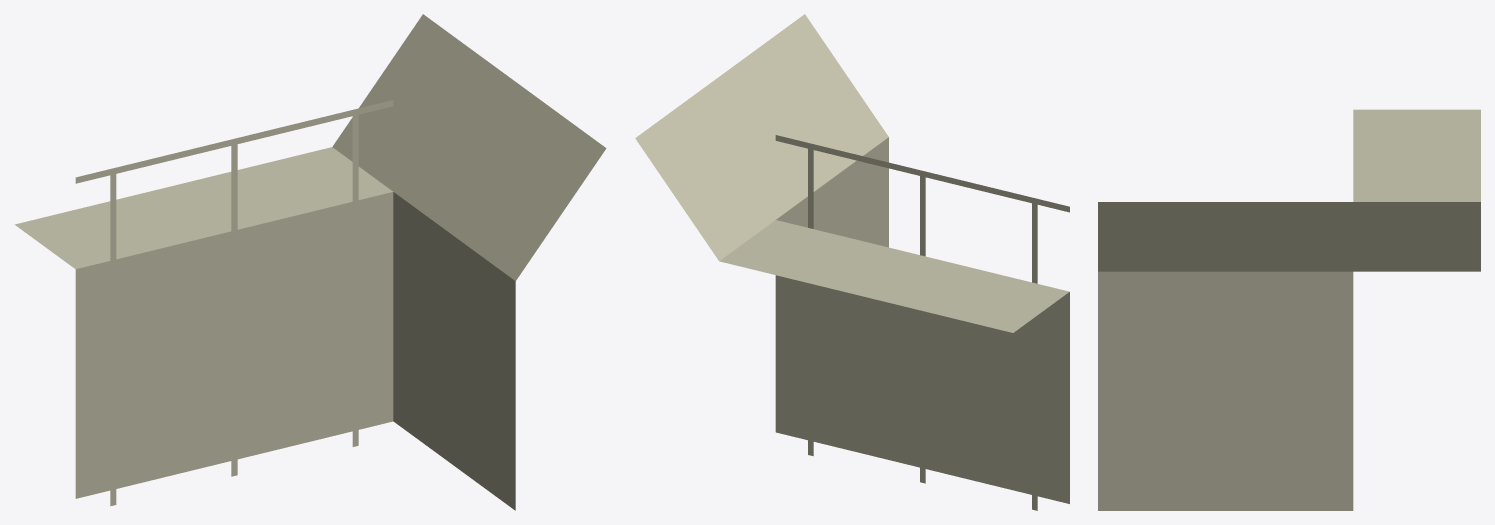
Rendered from level1.obj.
The picture shows the model from 3 angles, left to right: view 1: azimuth 30°, elevation 25°; view 2: azimuth 150°, elevation 25°; view 3: azimuth 270°, elevation 25°; orthographic projection. The views are drawn at different scales.
Visible parts, largest first — view 1: Mesh; view 2: Mesh; view 3: Mesh.
Part boxes in pixels (<box>): Mesh: <box>14,14,606,510</box>; Mesh: <box>635,14,1069,510</box>; Mesh: <box>1098,109,1480,510</box>.
Size of the model in its own units: 1.35 by 1.12 by 1.05.
